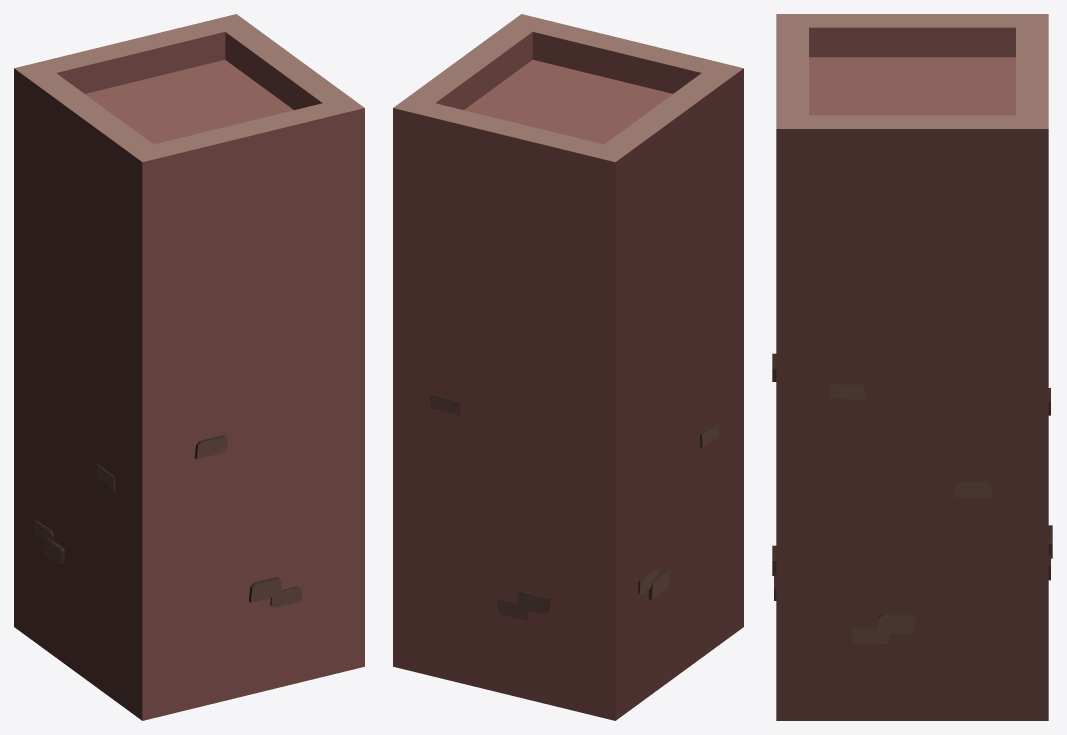
The model's file is TB_D_Bd_Tower_A_Red.FBX.
3 views of the same model, side by side, from view 1: azimuth 30°, elevation 25°; view 2: azimuth 150°, elevation 25°; view 3: azimuth 270°, elevation 25° (orthographic). The views are drawn at different scales.
Parts seen in each view (by area): view 1: TB_D_Bd_Tower_A_Red; view 2: TB_D_Bd_Tower_A_Red; view 3: TB_D_Bd_Tower_A_Red.
Part boxes in pixels (x1,y1,x2,y2): TB_D_Bd_Tower_A_Red: [14, 14, 364, 720]; TB_D_Bd_Tower_A_Red: [393, 14, 743, 720]; TB_D_Bd_Tower_A_Red: [772, 14, 1052, 720].
Bounding box in the file's own units: 2.57 × 6 × 2.57.
